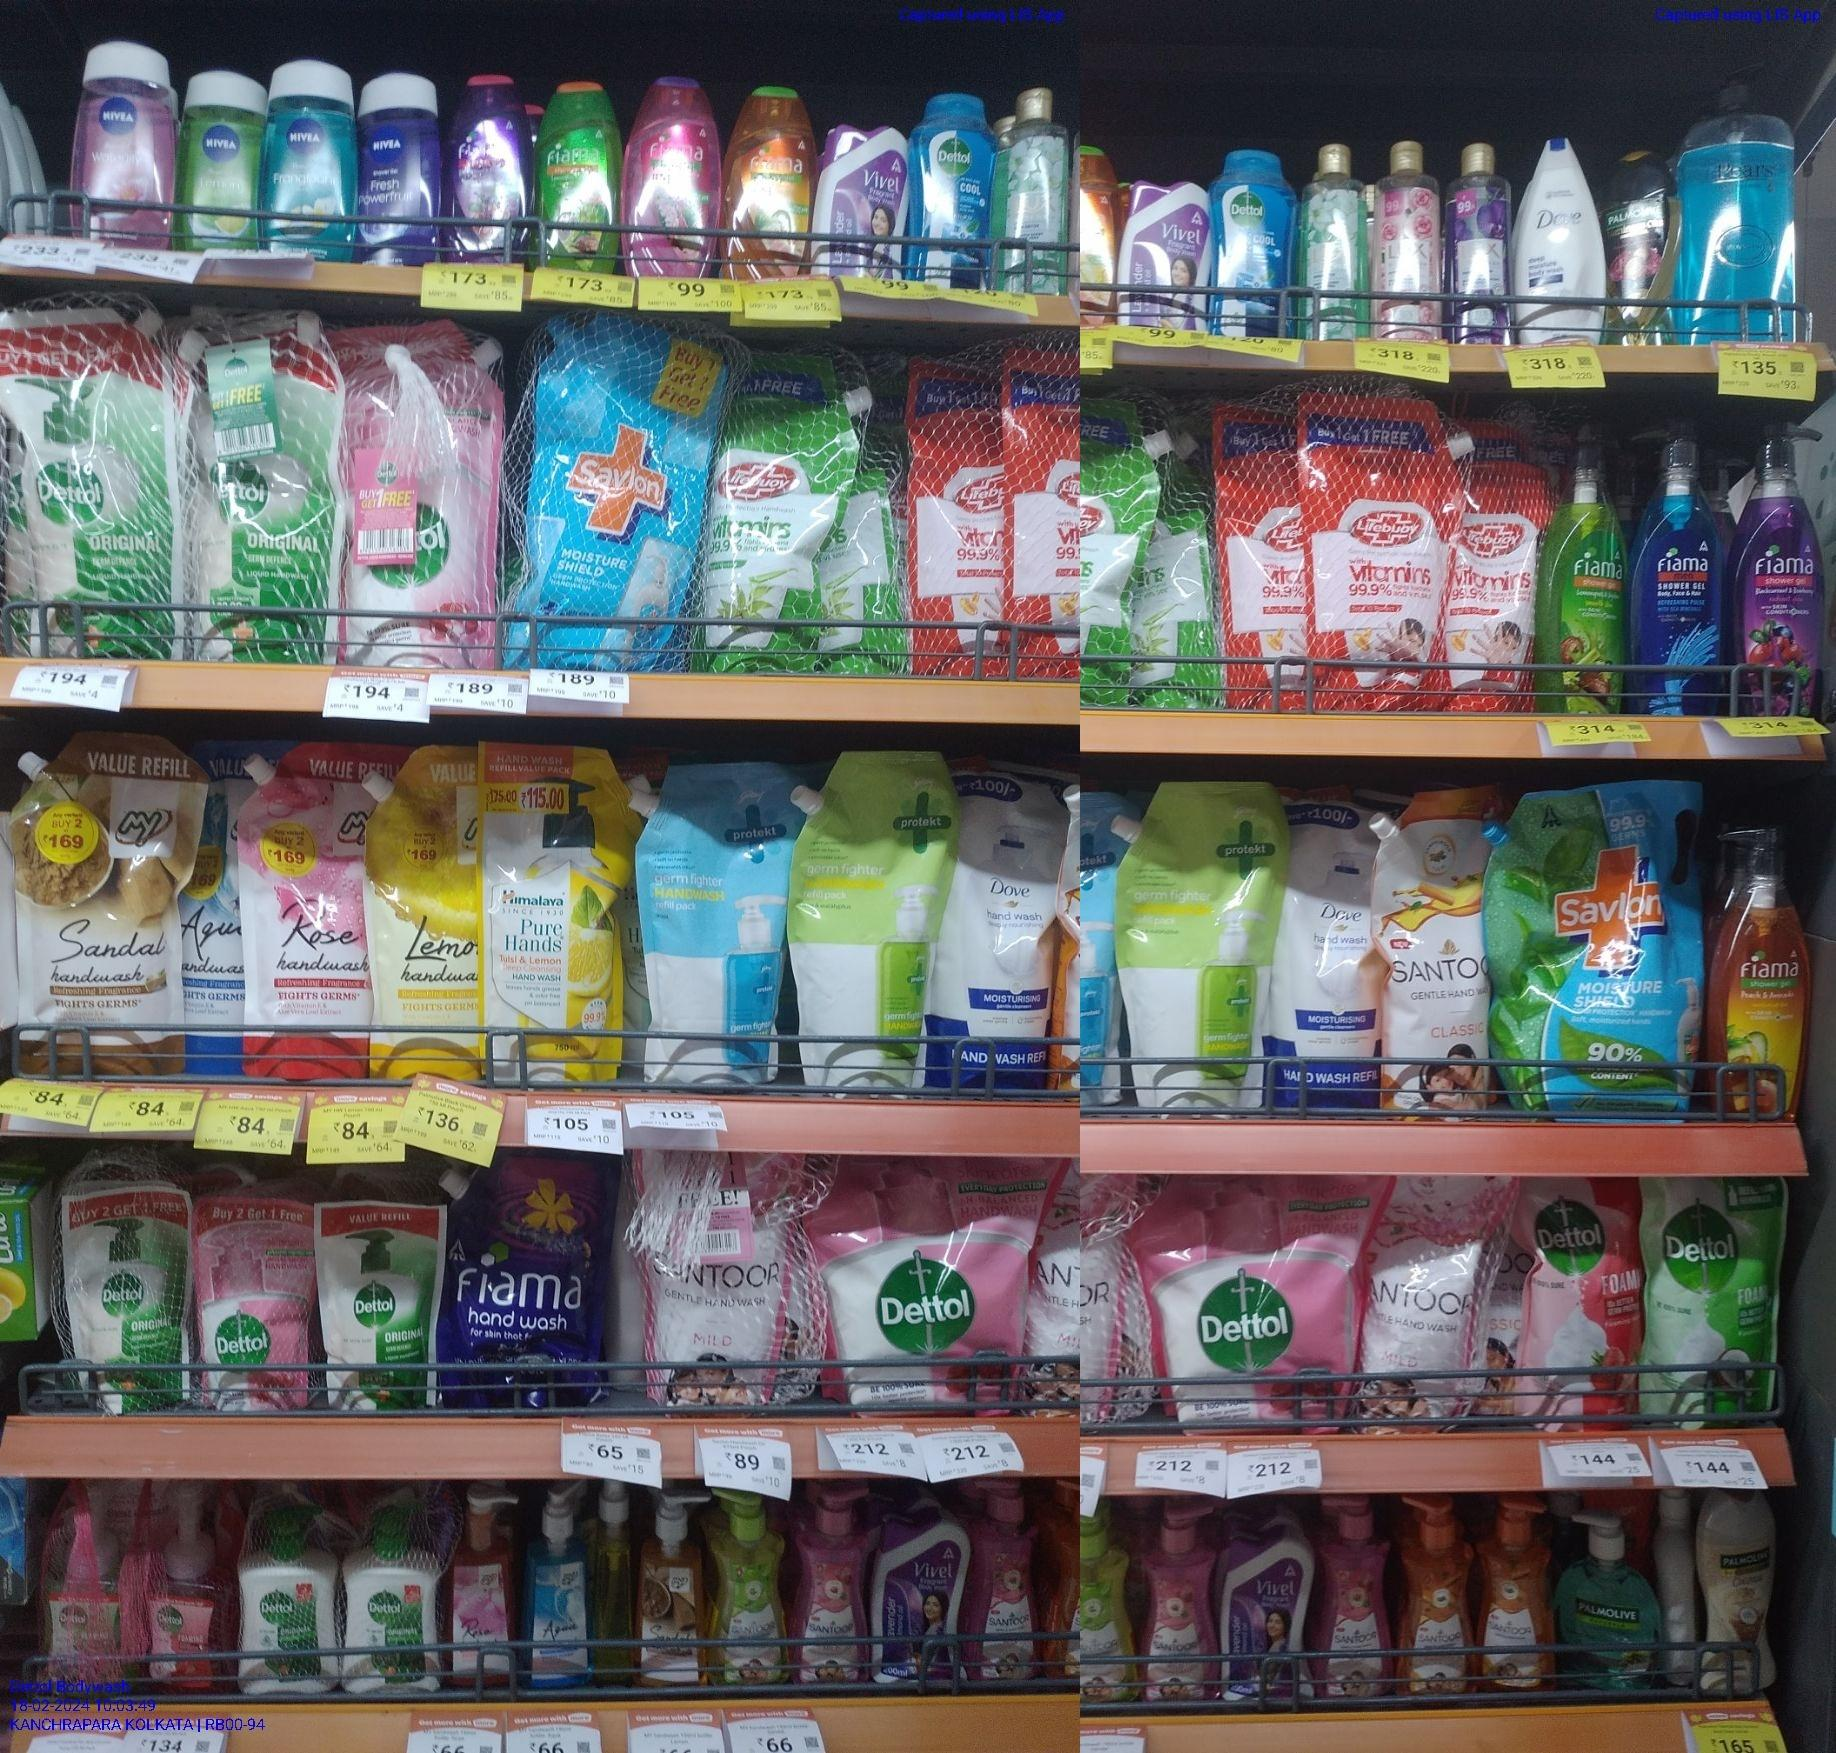Dettol_Bodywash_Cool: (903, 84, 992, 287), (1208, 146, 1285, 338)
Dove_Deep_Moisture_Body_Wash_250ML: (1516, 136, 1605, 343)
Fiama_Shower_Gel_Lemongrass_and_Jojoba_250ML: (538, 75, 616, 275)
Fiama_Shower_Gel_Patchouli_and_Macadamia_250ML: (620, 75, 716, 279)
Fiama_Shower_Gel_Peach_and_Avocado_250ML: (725, 84, 810, 275)
Lux_Black_Orchid_Scent_and_Juniper_Oil_Body_Wash_245ML: (1439, 136, 1507, 343)
Lux_Body_Wash_Skin_Detox_Freesia_Scent_and_Alove_Vera_245ML: (997, 89, 1069, 297), (1295, 139, 1366, 338)
Nivea_Shower_Gel_Frangipani_and_Oil_250ML: (266, 54, 349, 256)
Nivea_Shower_Gel_Fresh_Powerfruit_250ML: (361, 71, 441, 262)
Nivea_Shower_Gel_Lemon_and_Oil_250ML: (184, 75, 261, 257)
Nivea_Shower_Gel_Waterlily_and_Oil_250ML: (72, 44, 180, 251)
Palmolive_Luminous_Oils_Invigorating_Macadamia_Oil_With_Peony_250ML: (1610, 146, 1674, 344)
